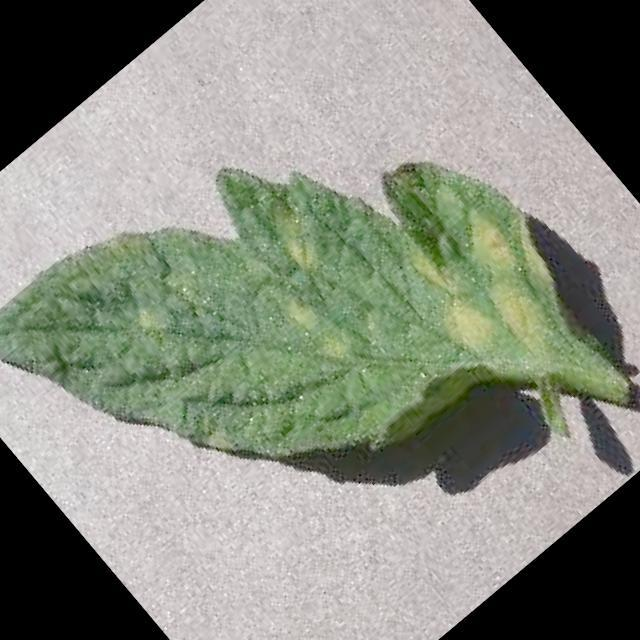Tomato mold leaf: (0, 5, 596, 625)
